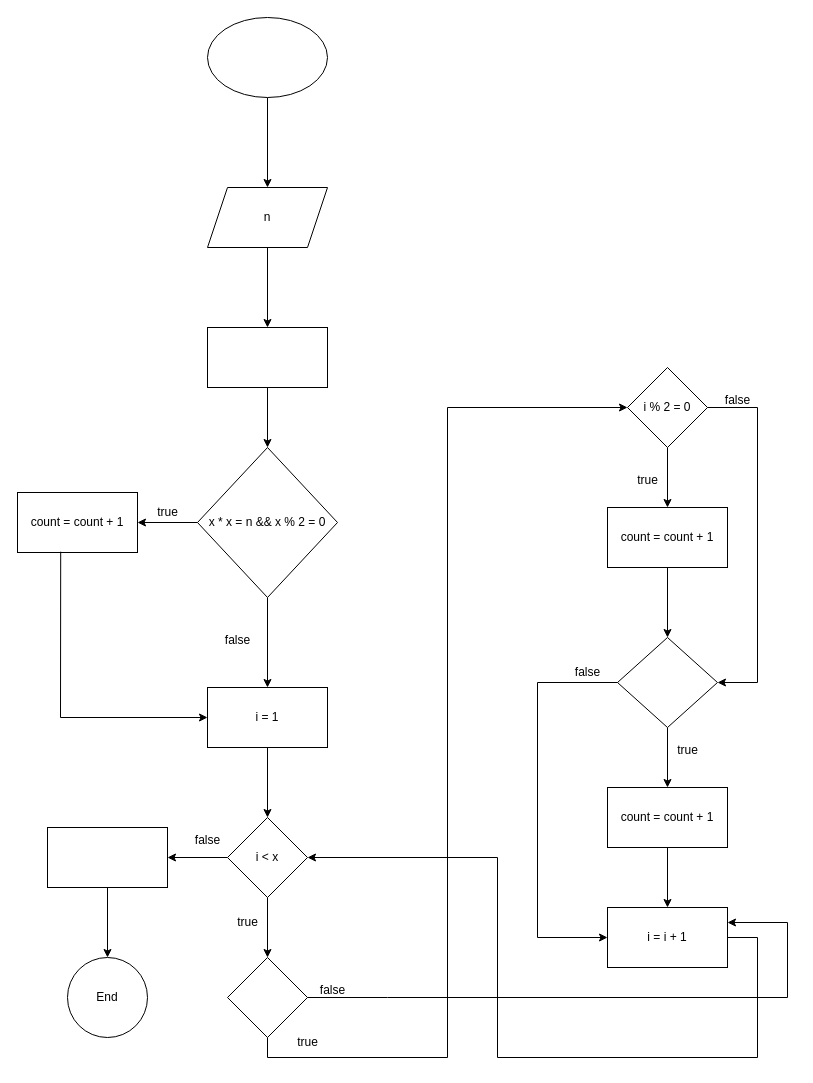
Some shapes in this 813 by 1083 pixel diagram are drawn without their labels. Each missing label, with the centre of its shape:
"(n / i) % 2 = 0" belongs at [667,682].
"Begin" belongs at [267,57].
"count" belongs at [107,857].
"count = 0 x = int(sqrt(n))" belongs at [267,357].
"n % i = 0" belongs at [267,997].
